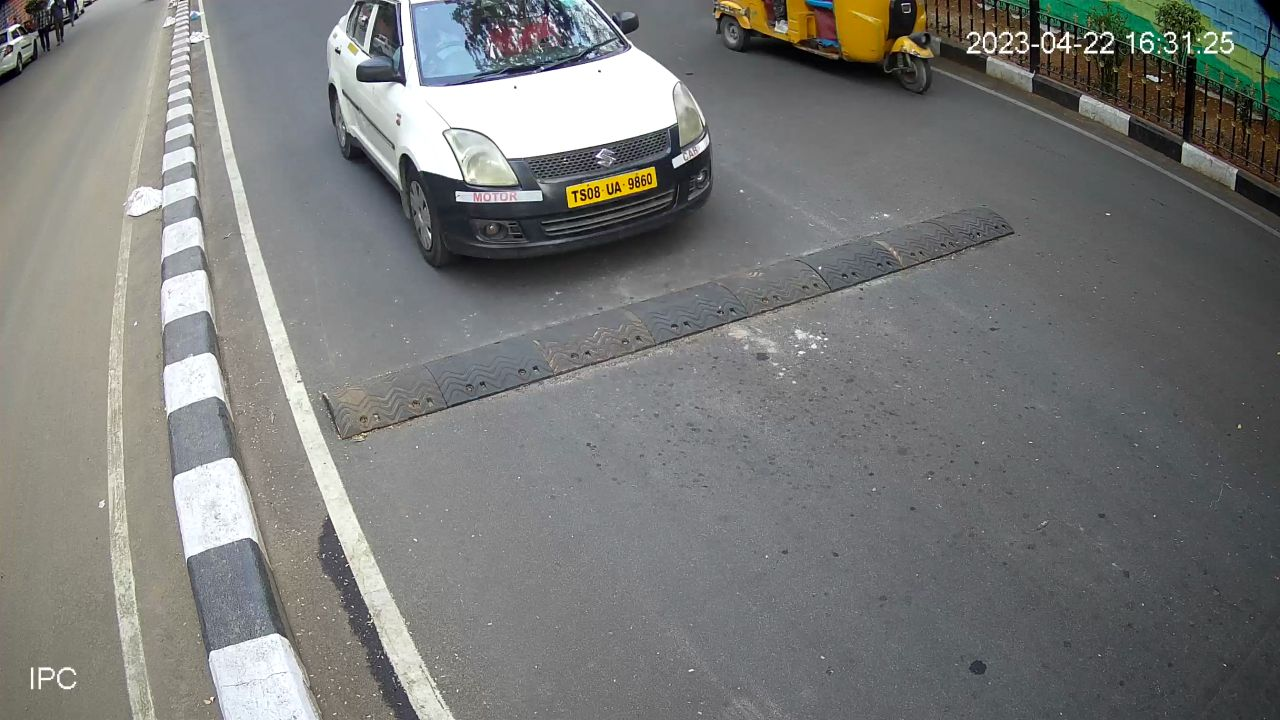license_plate: (561, 160, 664, 213)
